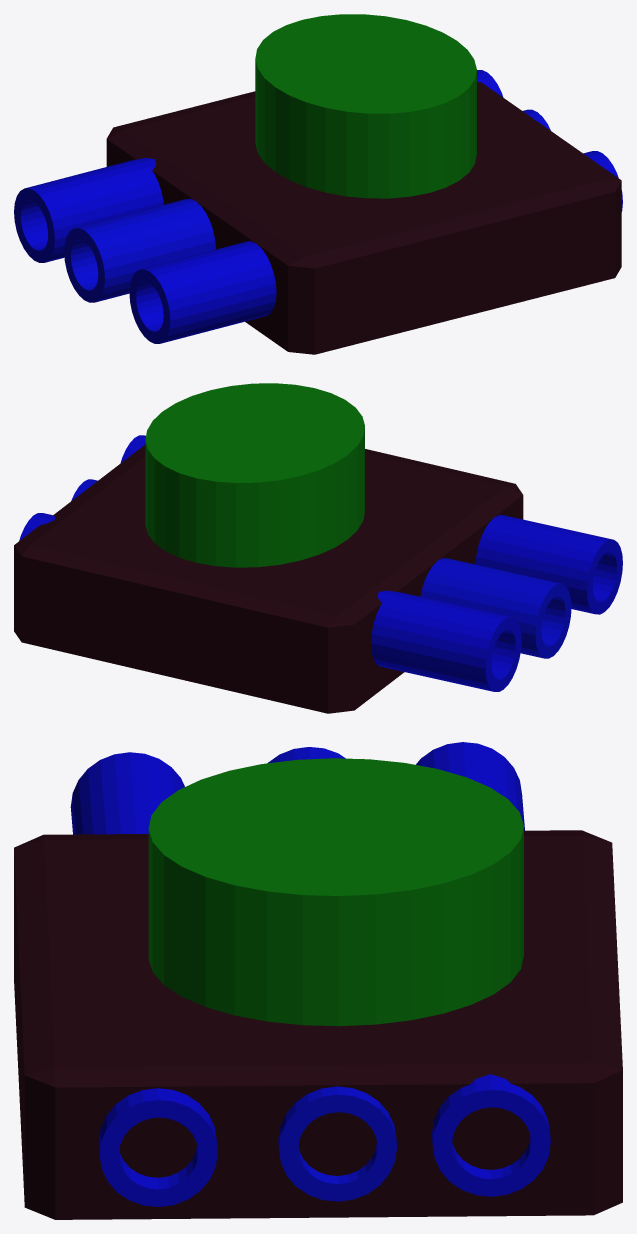
File: boss1.obj
3 renders of one model, top to bottom at view 1: azimuth 30°, elevation 25°; view 2: azimuth 150°, elevation 25°; view 3: azimuth 270°, elevation 25°, orthographic. The views are drawn at different scales.
Parts seen in each view (by area): view 1: Cube, Cylinder.002, Cylinder.001_gun3, Cylinder.003_gun1, Cylinder.004_gun2; view 2: Cube, Cylinder.002, Cylinder.004_gun2, Cylinder.001_gun3, Cylinder.003_gun1; view 3: Cube, Cylinder.002, Cylinder.001_gun3, Cylinder.004_gun2, Cylinder.003_gun1.
Part boxes in pixels (x1=…): Cube: x1=106, y1=81, x2=621, y2=354; Cylinder.002: x1=255, y1=14, x2=476, y2=198; Cylinder.001_gun3: x1=129, y1=151, x2=622, y2=343; Cylinder.003_gun1: x1=64, y1=109, x2=550, y2=302; Cylinder.004_gun2: x1=14, y1=70, x2=503, y2=262; Cube: x1=14, y1=445, x2=523, y2=713; Cylinder.002: x1=145, y1=383, x2=364, y2=567; Cylinder.004_gun2: x1=19, y1=513, x2=521, y2=691; Cylinder.001_gun3: x1=120, y1=435, x2=622, y2=614; Cylinder.003_gun1: x1=71, y1=479, x2=571, y2=658; Cube: x1=14, y1=830, x2=622, y2=1219; Cylinder.002: x1=148, y1=758, x2=523, y2=1026; Cylinder.001_gun3: x1=70, y1=752, x2=217, y2=1206; Cylinder.004_gun2: x1=416, y1=742, x2=550, y2=1196; Cylinder.003_gun1: x1=267, y1=747, x2=397, y2=1201.
Size of the model in its own units: 12.85 by 4.71 by 9.37.
